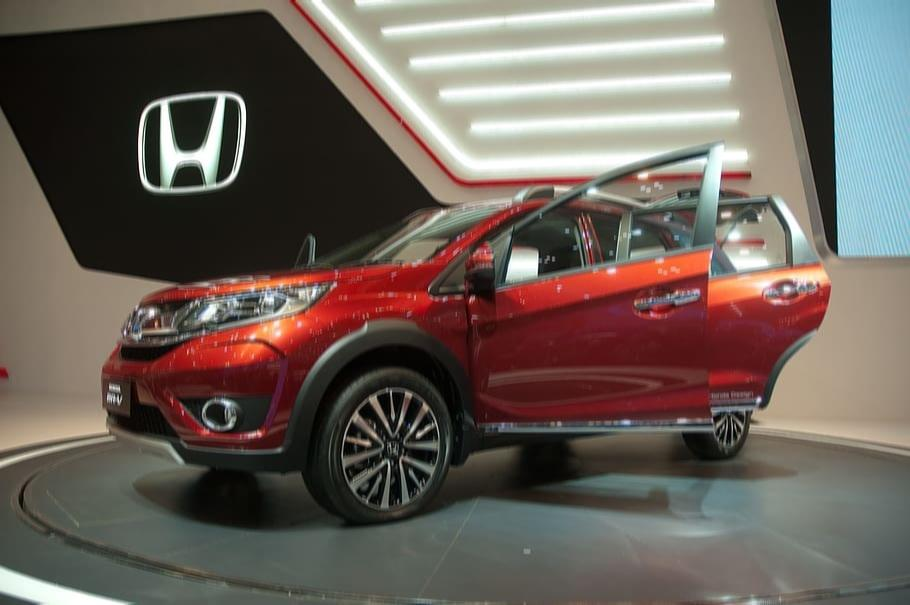Car hood: (138, 260, 406, 308)
Fender - -F-L-: (300, 257, 479, 470)
Front bumper: (95, 331, 343, 480)
Headlight - -L-: (175, 280, 337, 339)
Passenger-s door - -F-L-: (468, 133, 726, 424)
Passenger-s door - -R-L-: (608, 191, 845, 417)
Side bumper - -L-: (451, 397, 770, 468)
Side mirror - -L-: (460, 236, 507, 293)
